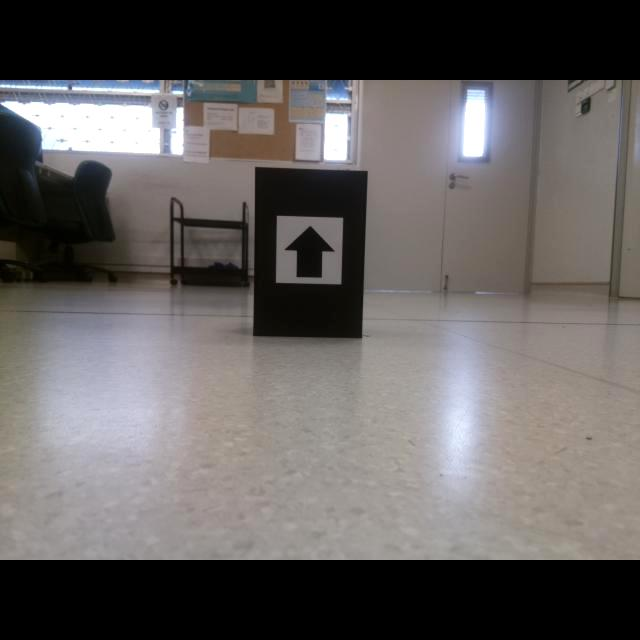UP: (283, 225, 337, 279)
